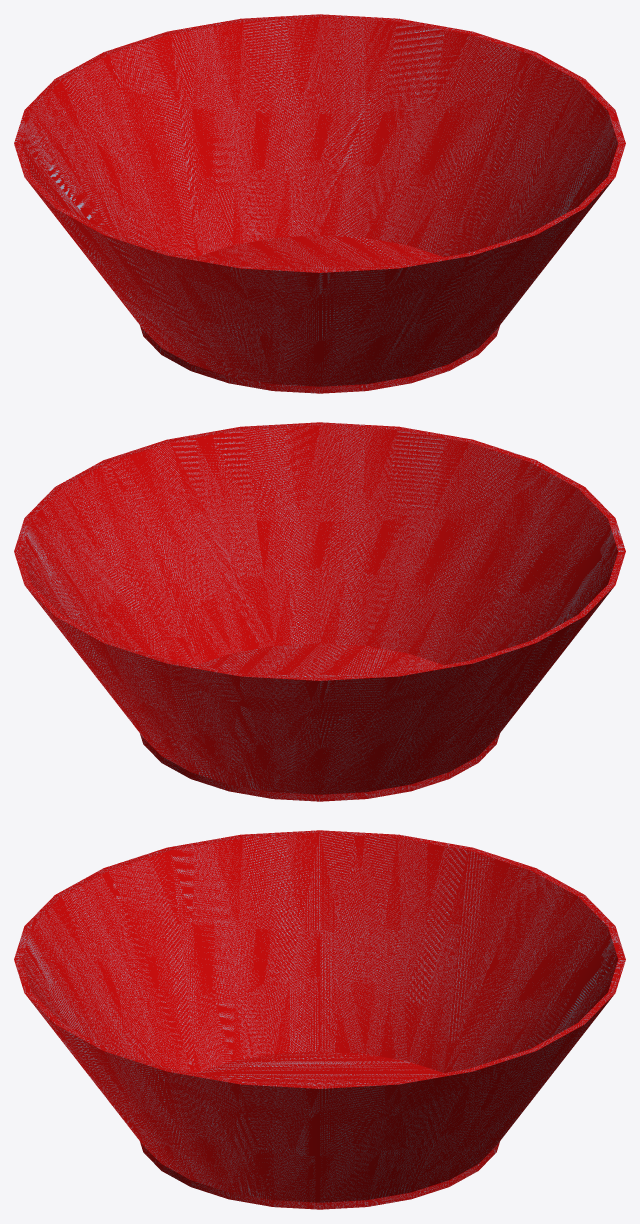
3 views of the same model, one above another, from view 1: azimuth 30°, elevation 25°; view 2: azimuth 150°, elevation 25°; view 3: azimuth 270°, elevation 25° (orthographic).
Parts seen in each view (by area): view 1: Bowl (×2); view 2: Bowl (×2); view 3: Bowl (×2).
Part boxes in pixels (x1,y1,x2,y2): Bowl (×2): (14, 14, 625, 393); Bowl (×2): (14, 422, 625, 801); Bowl (×2): (14, 830, 625, 1209).
Bounding box in the file's own units: 20.07 × 20.07 × 6.25.
